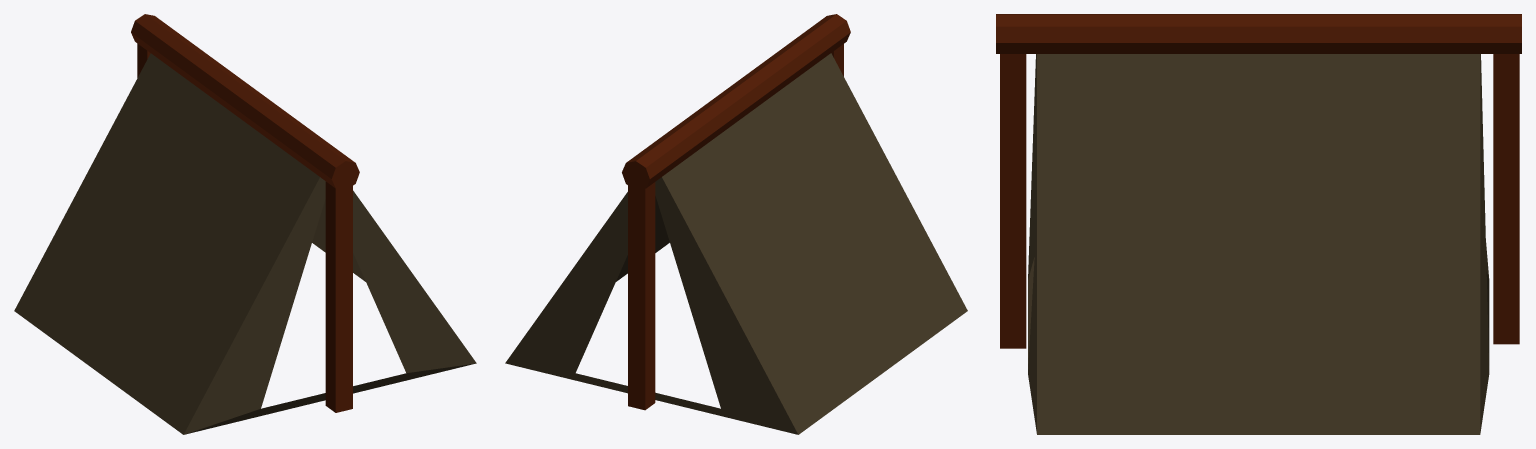
Rendered from tent.obj.
3 renders of one model, left to right at view 1: azimuth 30°, elevation 25°; view 2: azimuth 150°, elevation 25°; view 3: azimuth 270°, elevation 25°, orthographic. The views are drawn at different scales.
Visible parts, largest first — view 1: tent; view 2: tent; view 3: tent.
Boxes of the visible parts, x1,y1,x2,y2 form: tent: (14, 14, 476, 434); tent: (505, 14, 967, 434); tent: (996, 14, 1521, 434).
Size of the model in its own units: 0.7981 by 0.6528 by 0.9466.
